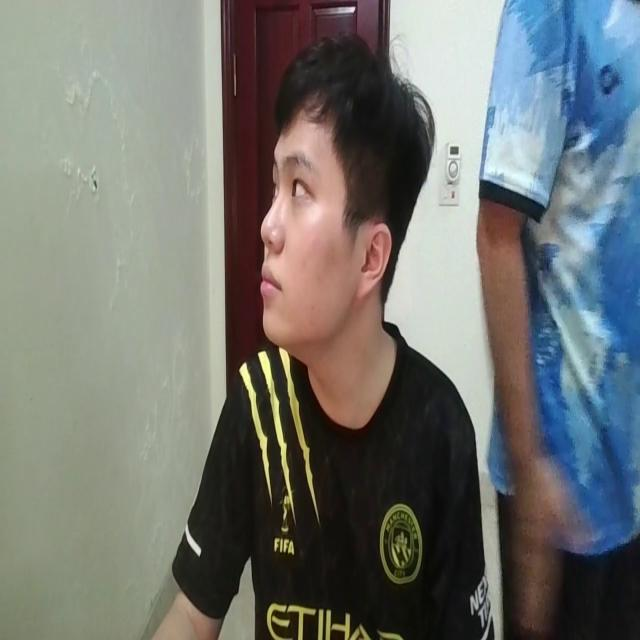student: (140, 41, 488, 640)
